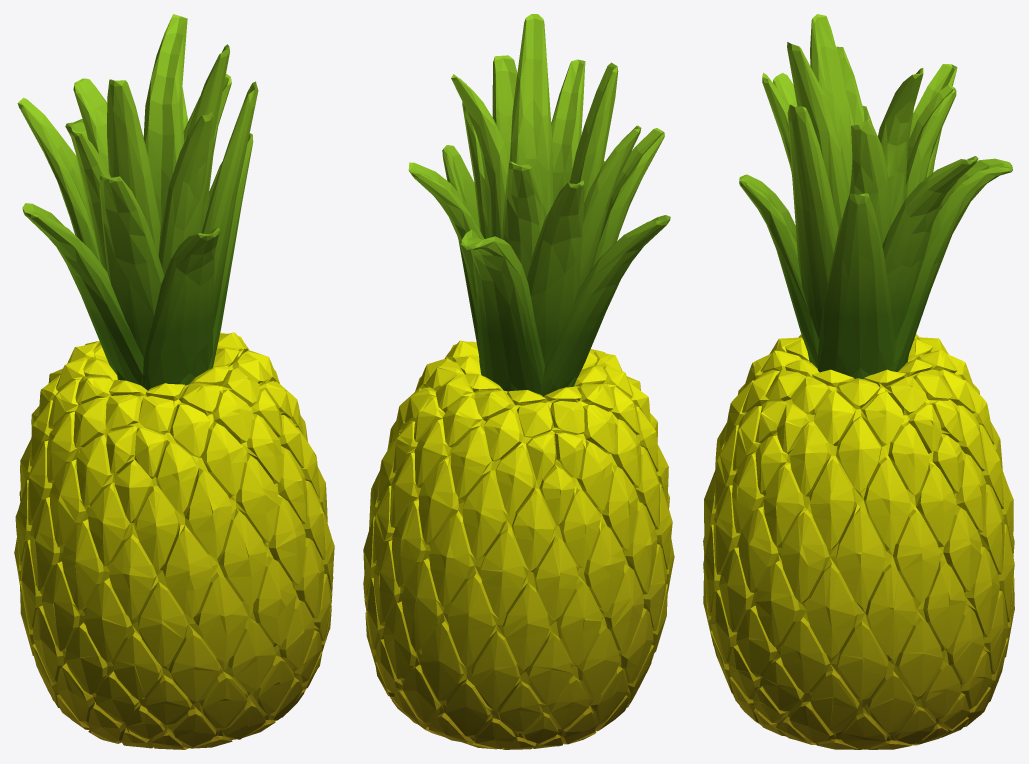
Rendered from ananas.fbx.
3 views of the same model, side by side, from view 1: azimuth 30°, elevation 25°; view 2: azimuth 150°, elevation 25°; view 3: azimuth 270°, elevation 25° (orthographic). The views are drawn at different scales.
Visible parts, largest first — view 1: Ananas; view 2: Ananas; view 3: Ananas.
Boxes of the visible parts, x1=… form: Ananas: x1=14, y1=14, x2=334, y2=749; Ananas: x1=363, y1=14, x2=674, y2=749; Ananas: x1=703, y1=14, x2=1014, y2=749.
Bounding box in the file's own units: 16.52 × 37.41 × 15.51.
